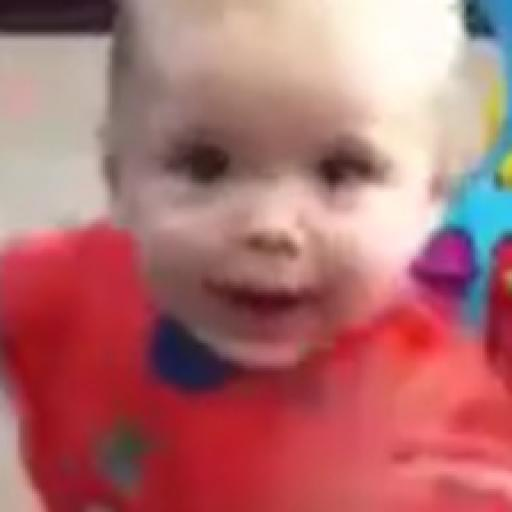Autism: (87, 6, 442, 362)
